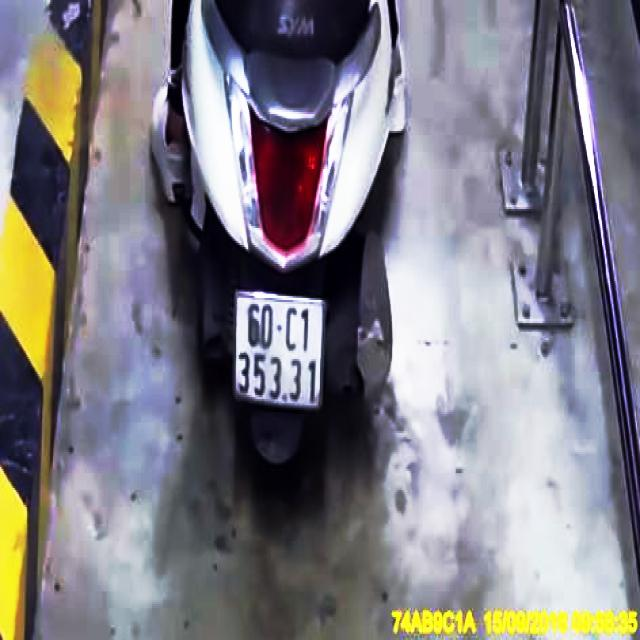license_plate: (235, 291, 325, 406)
